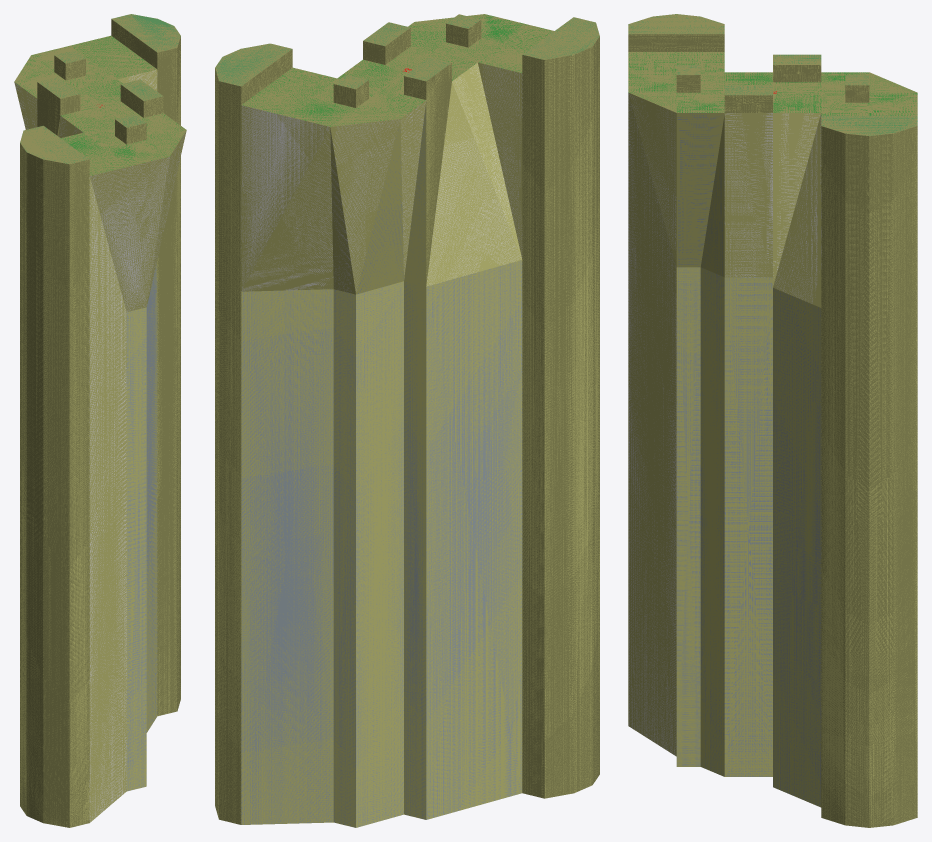
Rendered from ForestWorldWithRoots.fbx.
3 views of the same model, side by side, from view 1: azimuth 30°, elevation 25°; view 2: azimuth 150°, elevation 25°; view 3: azimuth 270°, elevation 25° (orthographic). The views are drawn at different scales.
Parts seen in each view (by area): view 1: Model; view 2: Model; view 3: Model.
Boxes of the visible parts, <box> form: Model: <box>14,14,186,827</box>; Model: <box>215,14,599,827</box>; Model: <box>628,14,917,827</box>.
Bounding box in the file's own units: 0.75 × 1.98 × 0.75.
